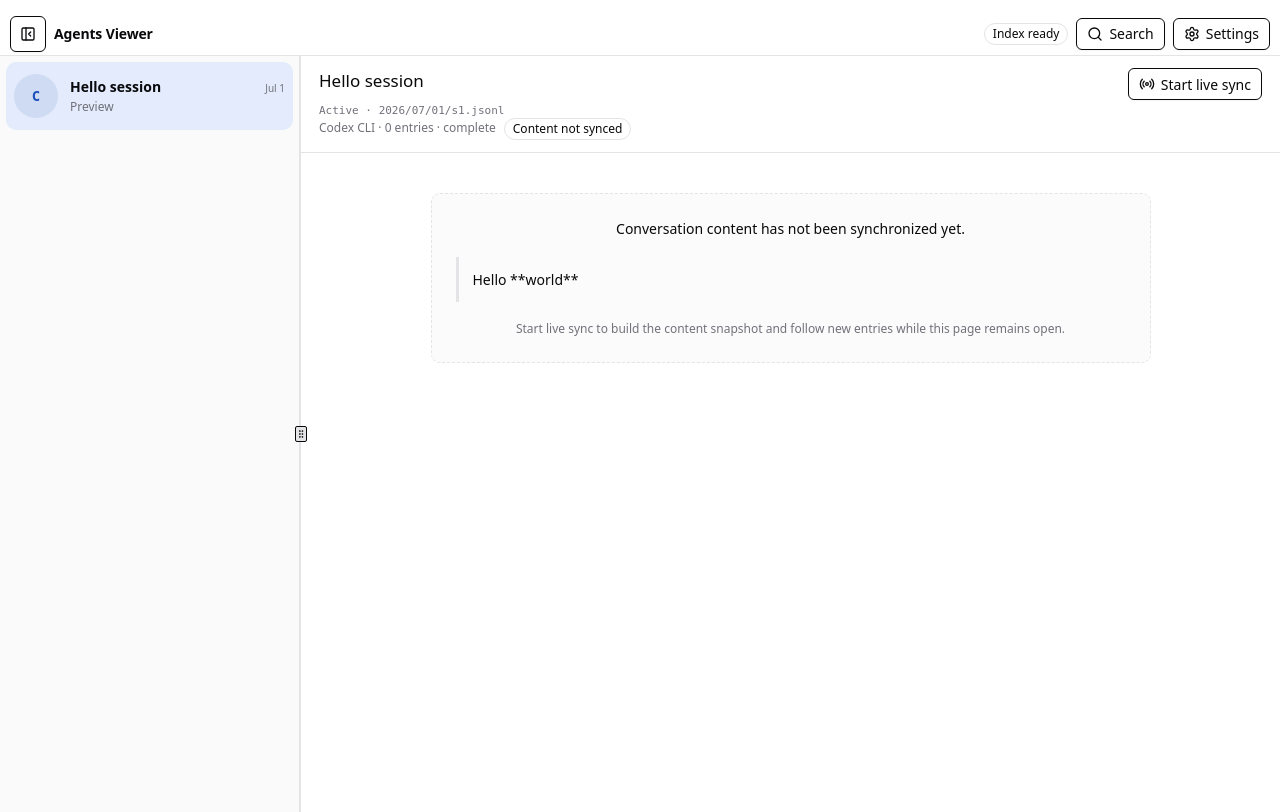
Scenario: Agents Viewer UI › starts content synchronization only after an explicit page-scoped action
Expected: the text "Conversation content has not been synchronized yet." is shown, [616, 219, 965, 238]
Expected: the text "Hello **world**" is shown, [456, 257, 1126, 302]
Click the button "Start live sync".
click(1195, 84)  # box [1128, 68, 1262, 100]
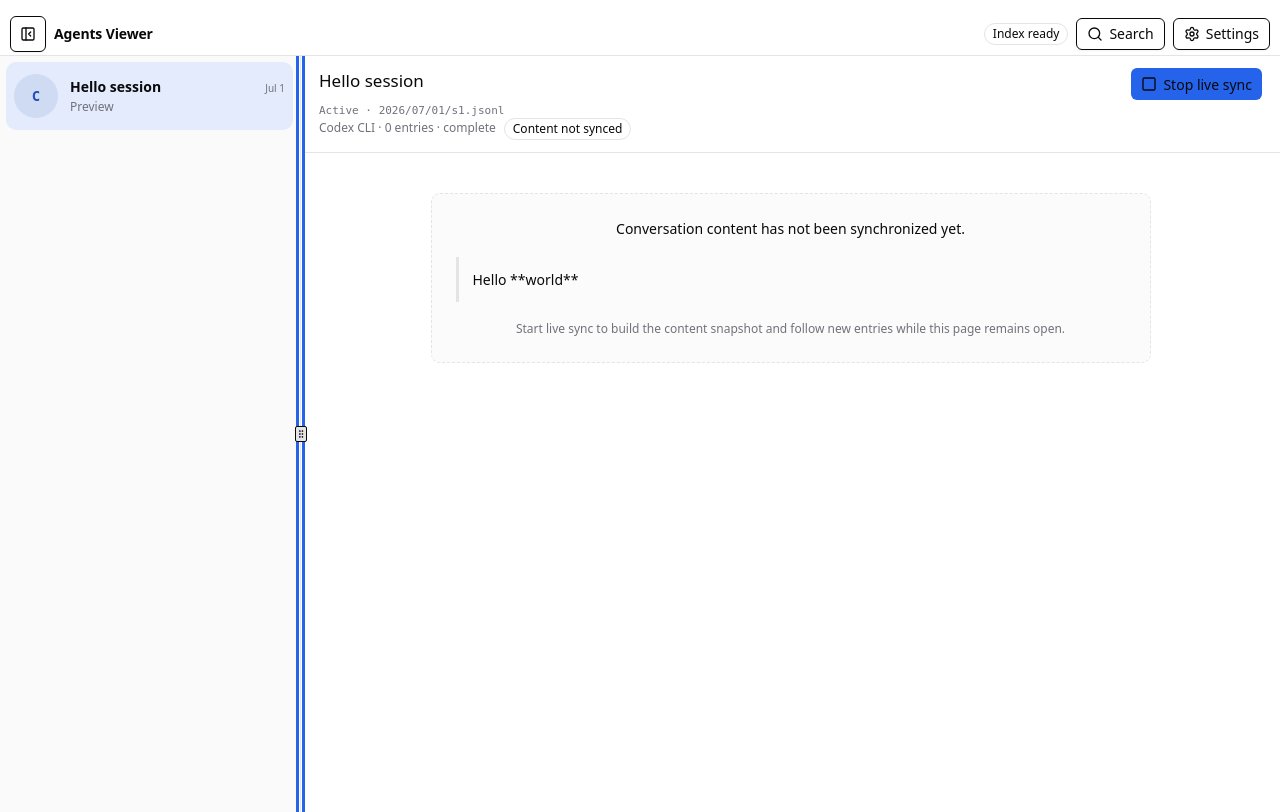
Expected: the button "Stop live sync" is shown, [1131, 68, 1262, 100]
